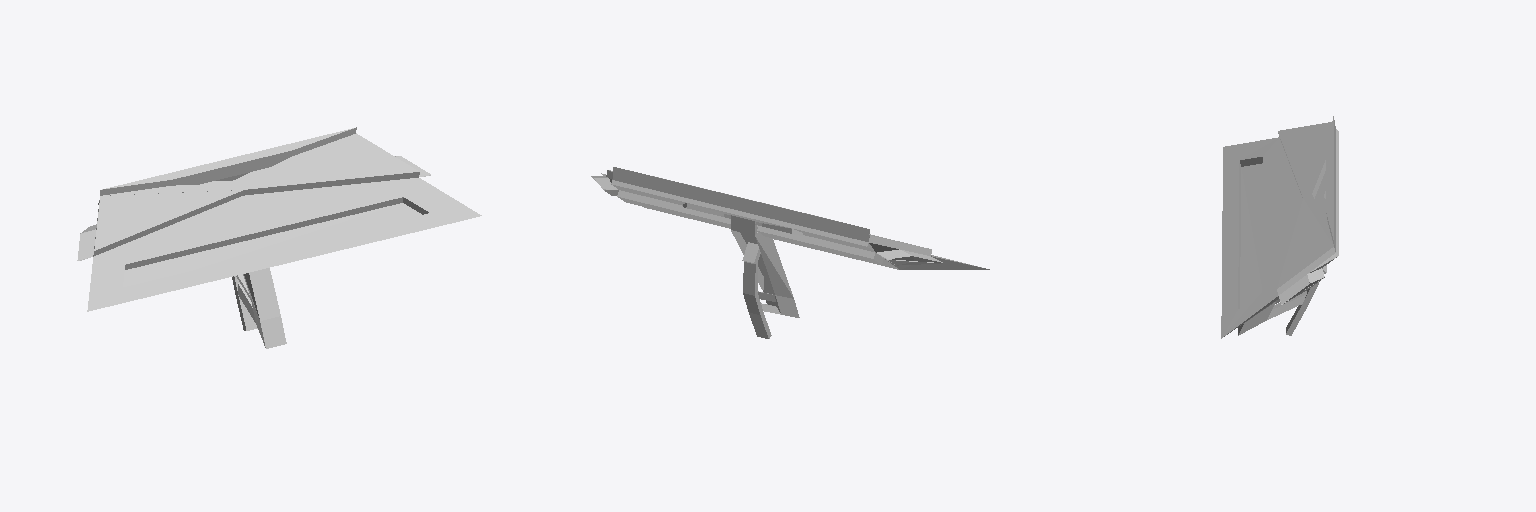
The model's file is control-table.obj.
3 views of the same model, side by side, from view 1: azimuth 30°, elevation 25°; view 2: azimuth 150°, elevation 25°; view 3: azimuth 270°, elevation 25° (orthographic).
Visible parts, largest first — view 1: Cube.001, Cube; view 2: Cube.001, Cube; view 3: Cube.001, Cube.
Boxes of the visible parts, x1=… form: Cube.001: x1=77, y1=127, x2=481, y2=311; Cube: x1=232, y1=268, x2=286, y2=348; Cube.001: x1=591, y1=167, x2=989, y2=269; Cube: x1=731, y1=215, x2=799, y2=338; Cube.001: x1=1221, y1=116, x2=1338, y2=338; Cube: x1=1238, y1=282, x2=1318, y2=335.
Size of the model in its own units: 3.77 by 1.42 by 0.973.